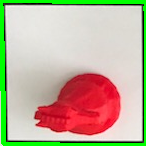Red Knight: (31, 70, 126, 139)
